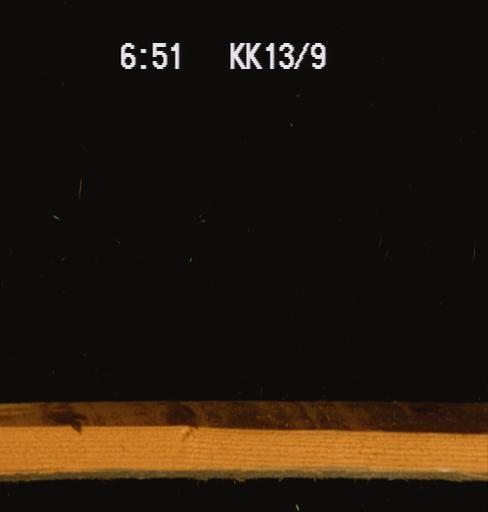wave: (0, 396, 485, 435), (3, 461, 486, 489)
